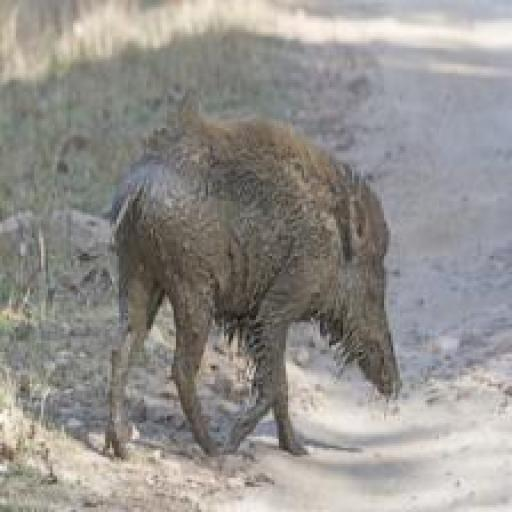Pig: (96, 112, 416, 456)
